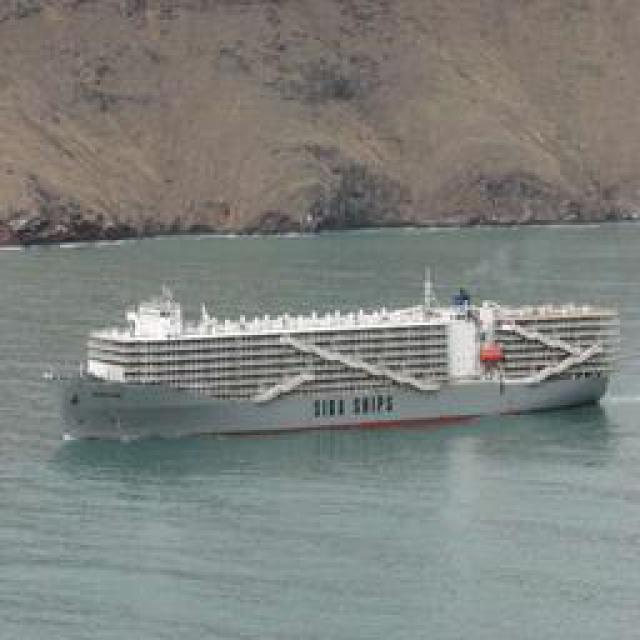Ship: (60, 284, 618, 444)
